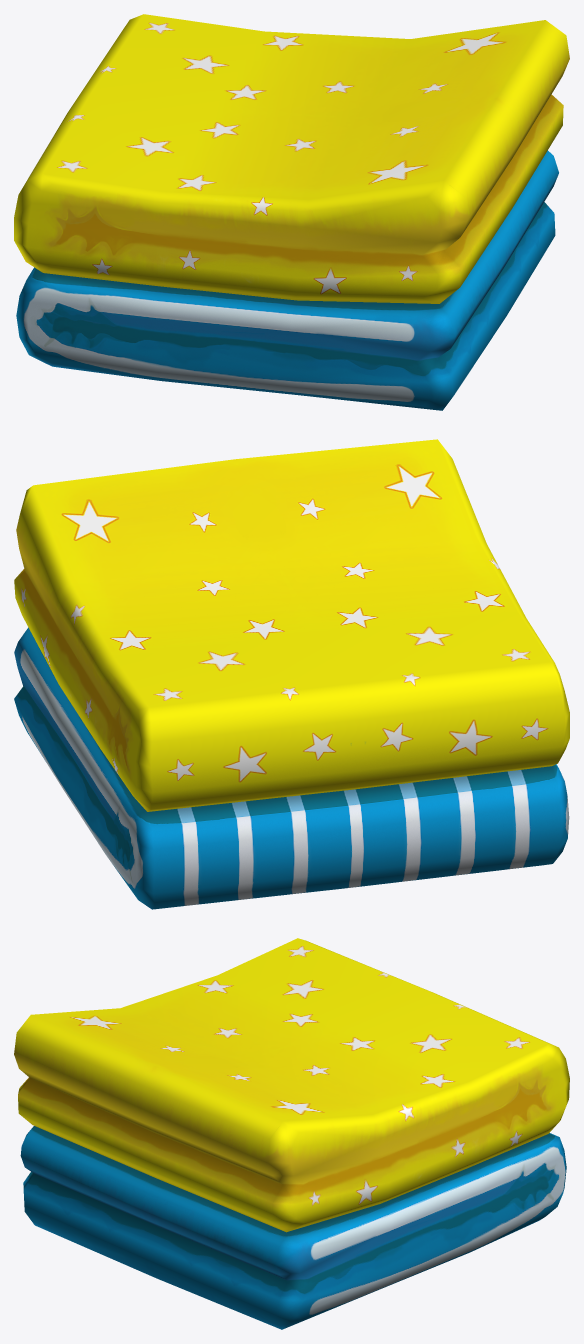
File: Bedsheet.fbx
3 renders of one model, top to bottom at view 1: azimuth 30°, elevation 25°; view 2: azimuth 150°, elevation 25°; view 3: azimuth 270°, elevation 25°, orthographic. The views are drawn at different scales.
Parts seen in each view (by area): view 1: 074; view 2: 074; view 3: 074.
Part boxes in pixels (<box>): 074: <box>14,14,569,410</box>; 074: <box>14,439,569,909</box>; 074: <box>14,938,569,1329</box>.
Size of the model in its own units: 70.19 by 29.69 by 70.2.
1 material, 1 textured.
